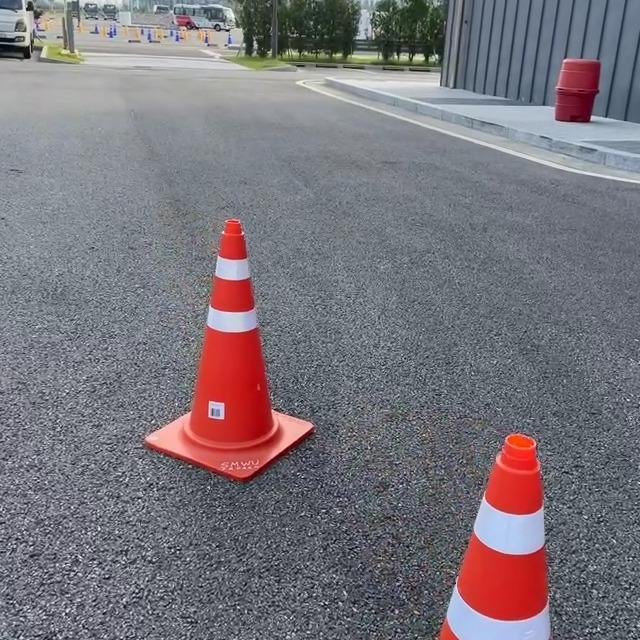fallen_object: (135, 186, 341, 508), (389, 300, 552, 640)
